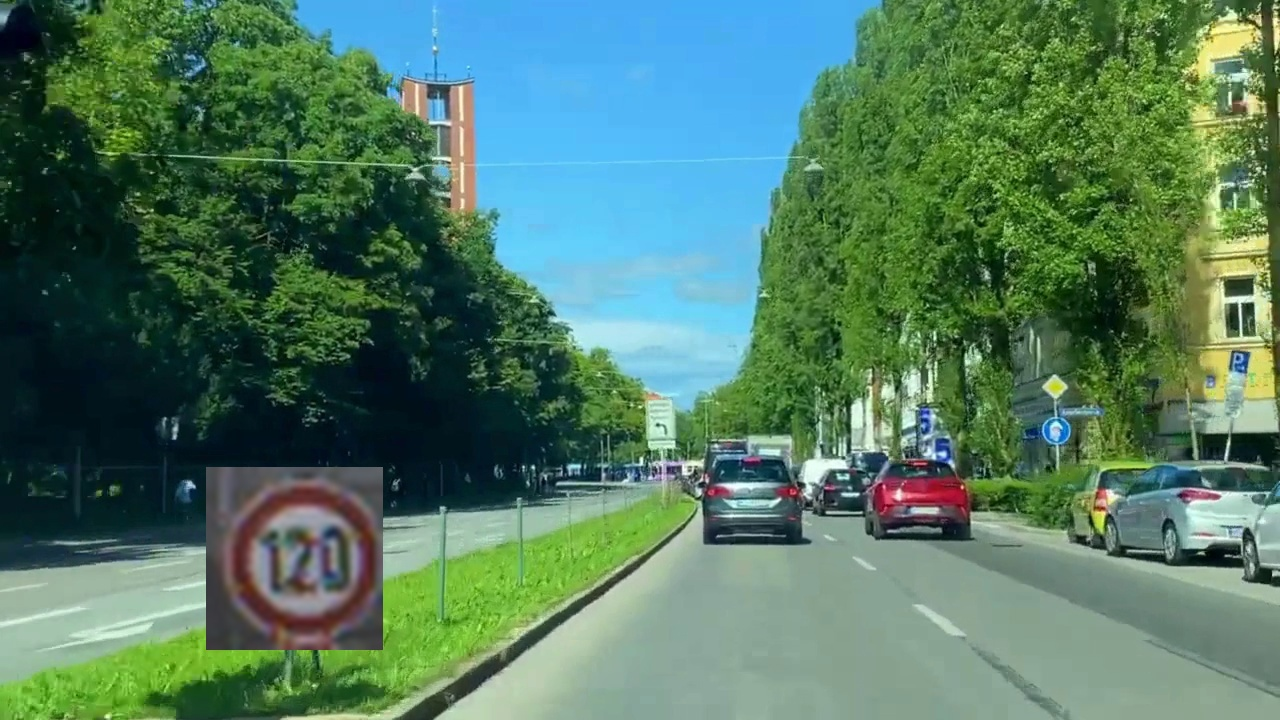Speed 120: (206, 467, 383, 650)
